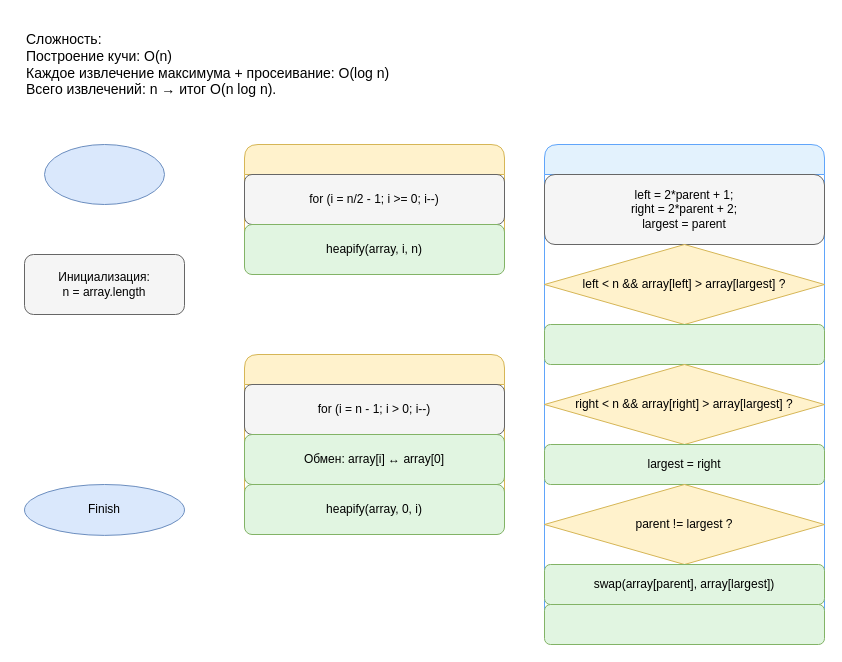
The diagram is 842 pixels wide and 662 high, and some of its shapes have lost their labels. Each missing label, with the box of its shape:
heapify(array, largest, n): (544, 604, 824, 644)
heapify(array, parent, n): (544, 144, 824, 644)
largest = left: (544, 324, 824, 364)
Start: (44, 144, 164, 204)
Шаг 1. Построение max-кучи: (244, 144, 504, 274)
Шаг 2. Извлечение максимума и сужение кучи: (244, 354, 504, 534)
